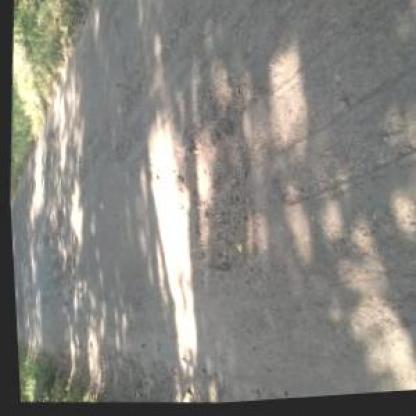pothole: (161, 106, 261, 286)
